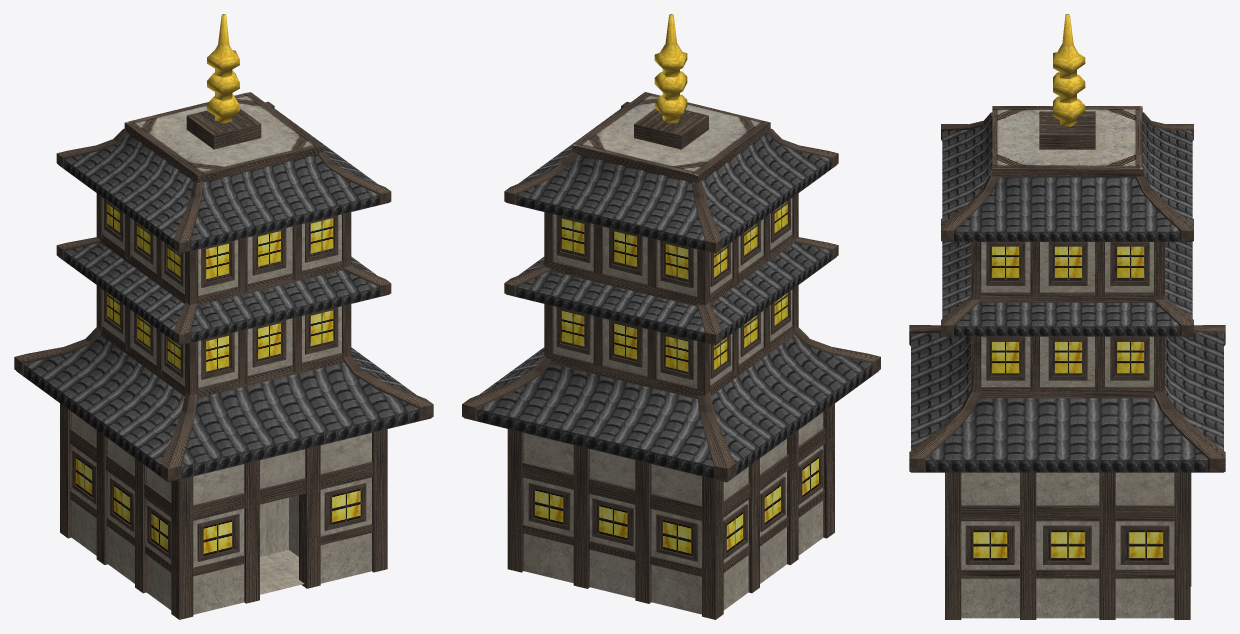
Rendered from casa-oriental-02-c.fbx.
3 views of the same model, side by side, from view 1: azimuth 30°, elevation 25°; view 2: azimuth 150°, elevation 25°; view 3: azimuth 270°, elevation 25° (orthographic). The views are drawn at different scales.
Parts seen in each view (by area): view 1: Cube.000, Cube.002, Cube.001; view 2: Cube.000, Cube.002; view 3: Cube.000, Cube.002.
Boxes of the visible parts, x1,y1,x2,y2 form: Cube.000: [14, 14, 433, 619]; Cube.002: [75, 200, 361, 556]; Cube.001: [260, 495, 304, 594]; Cube.000: [462, 14, 880, 619]; Cube.002: [533, 201, 819, 556]; Cube.000: [909, 14, 1225, 619]; Cube.002: [970, 246, 1164, 560].
Bounding box in the file's own units: 5.37 × 10.37 × 5.37.
